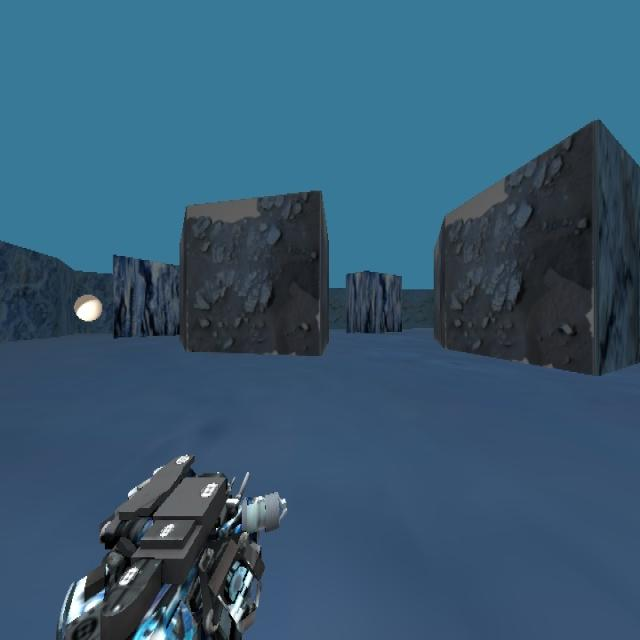Circle: (73, 293, 102, 323)
